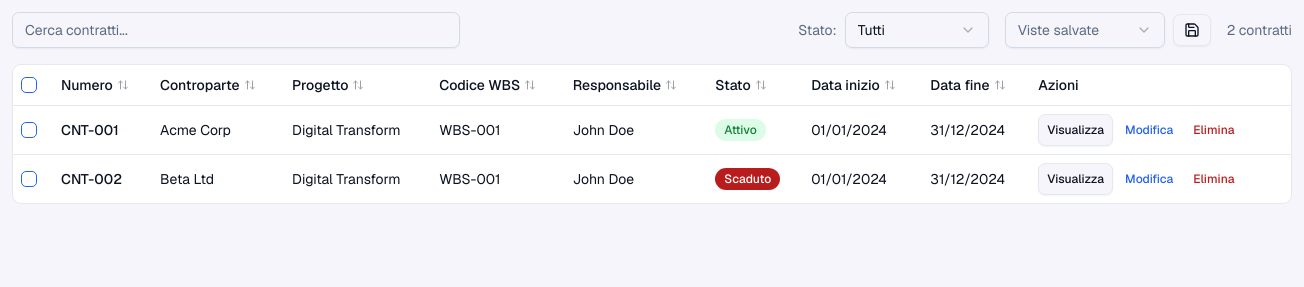
Scenario: ContractTable › selects and deselects all rows with the header checkbox
Click the checkbox named "seleziona tutti". click: x=29, y=85
box: [21,77,37,93]
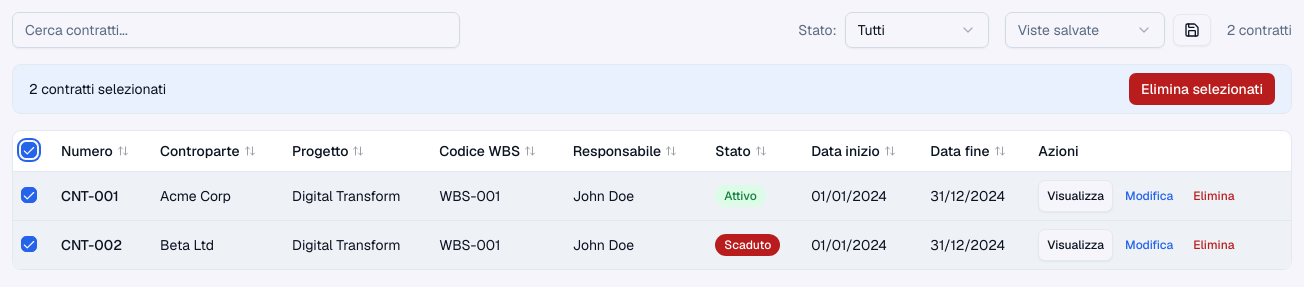
Expected: the text "2 contratti selezionati" is shown, [29,79,166,99]
Click the checkbox named "seleziona tutti". click: x=29, y=150
box: [21,142,37,158]
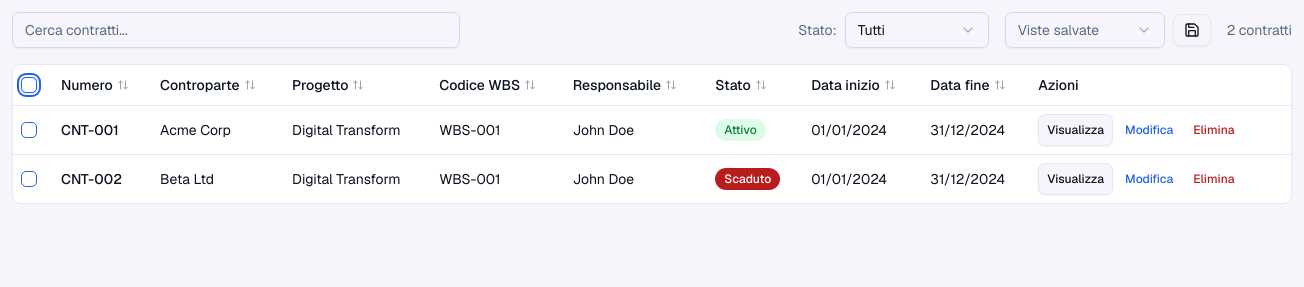
Expected: the text "selezionat" is gone
